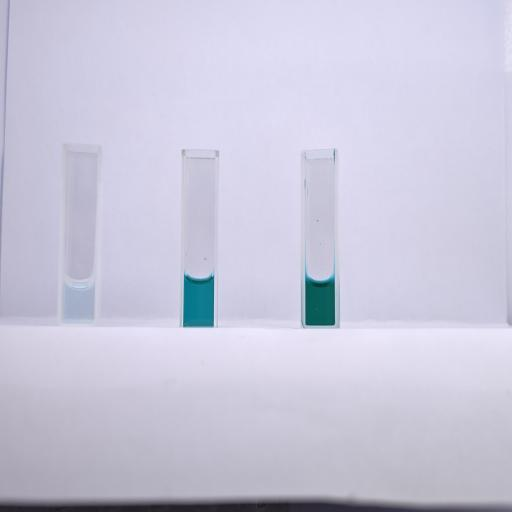cuvette: (56, 141, 104, 328), (299, 147, 342, 329), (178, 147, 220, 328)
liquid: (184, 275, 214, 326), (305, 276, 335, 326), (63, 277, 94, 323)
